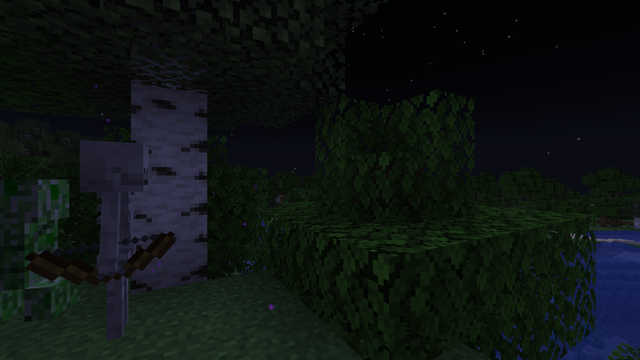creepers: (0, 172, 58, 323)
squelettes: (71, 139, 152, 354)
